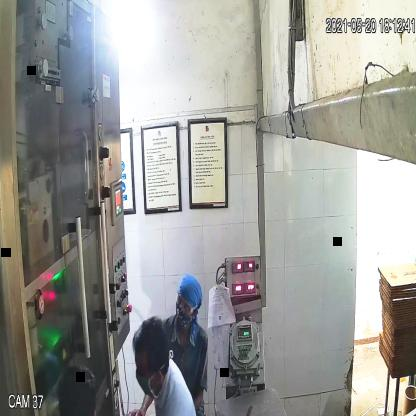goggles: (173, 293, 199, 315)
